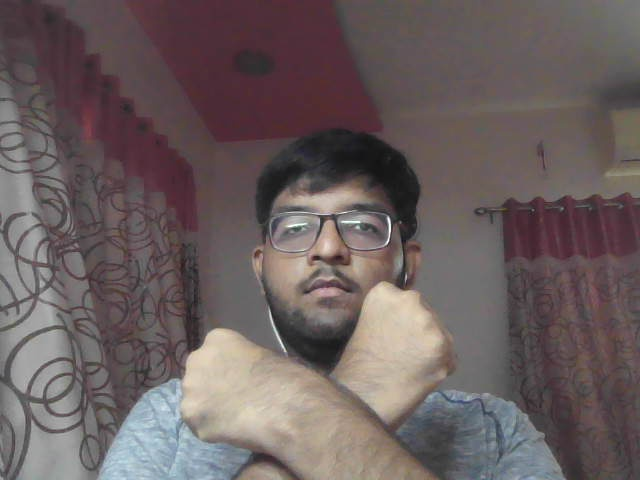પ્રેમ: (156, 274, 537, 479)
